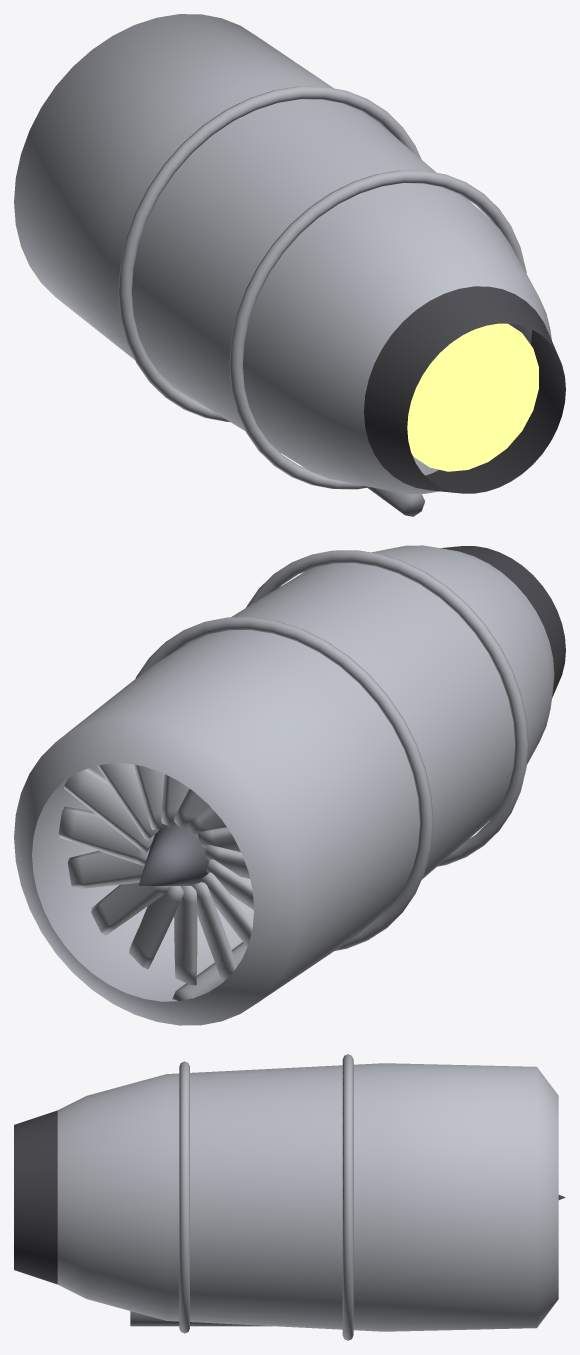
File: thruster.glb
The picture shows the model from 3 angles, top to bottom: view 1: azimuth 30°, elevation 25°; view 2: azimuth 150°, elevation 25°; view 3: azimuth 270°, elevation 25°; orthographic projection. The views are drawn at different scales.
Parts seen in each view (by area): view 1: thruster; view 2: thruster, Prop; view 3: thruster.
Part boxes in pixels (box(x1,y1,x2,y2)): thruster: box(14, 14, 565, 516); thruster: box(14, 545, 565, 1025); Prop: box(58, 763, 253, 985); thruster: box(14, 1054, 558, 1340).
Size of the model in its own units: 0.79 by 0.79 by 1.52.
